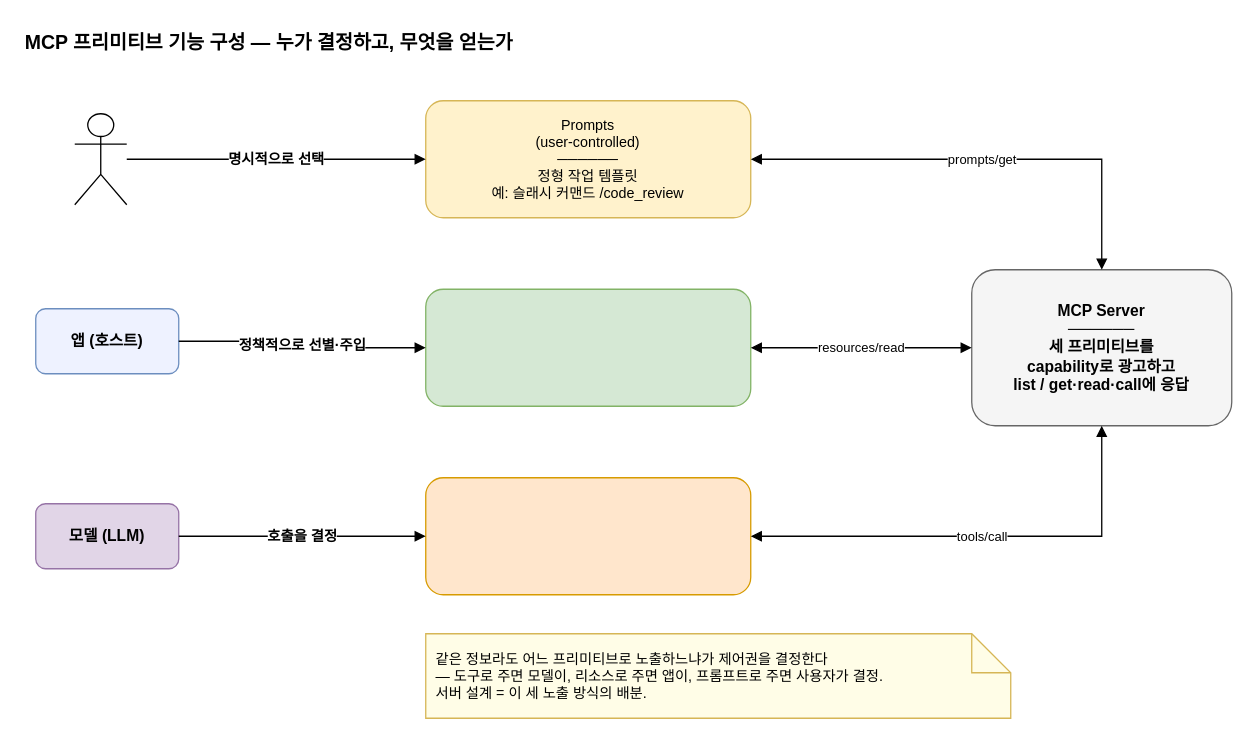
The diagram is 1255 pixels wide and 741 high, and some of its shapes have lost their labels. The shapes that lost their labels are listed below. From the top down, each one's centre as x and y in pixels, then its label:
At point (100, 158): "사용자".
At point (587, 347): "Resources (app-controlled) ────── 컨텍스트로 주입할 데이터 (읽기 전용) 예: 파일 첨부, DB 스키마 선주입".
At point (587, 535): "Tools (model-controlled) ────── 실행 가능한 동작 예: 검색·조회·생성 API 호출".
